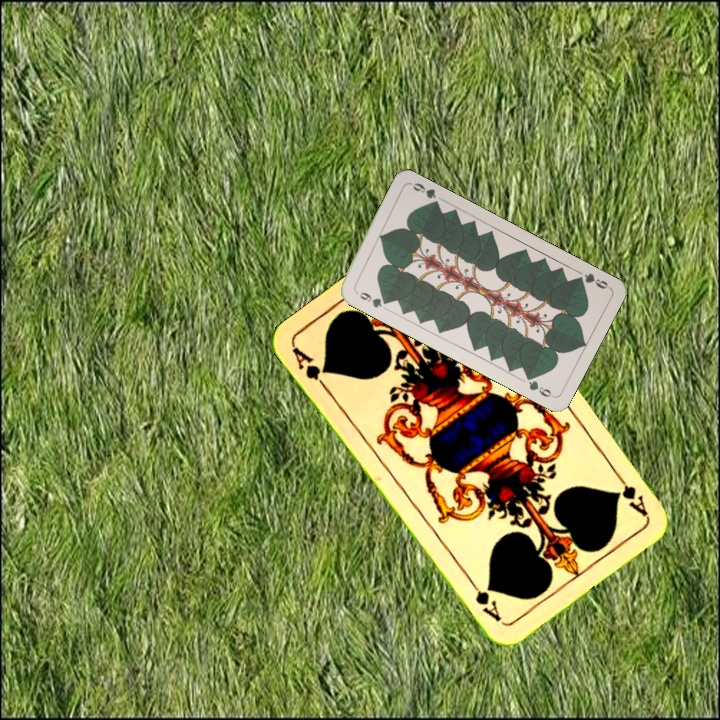G9: (351, 286, 391, 310), (571, 269, 612, 291)
GA: (288, 343, 331, 394), (610, 467, 651, 519)
